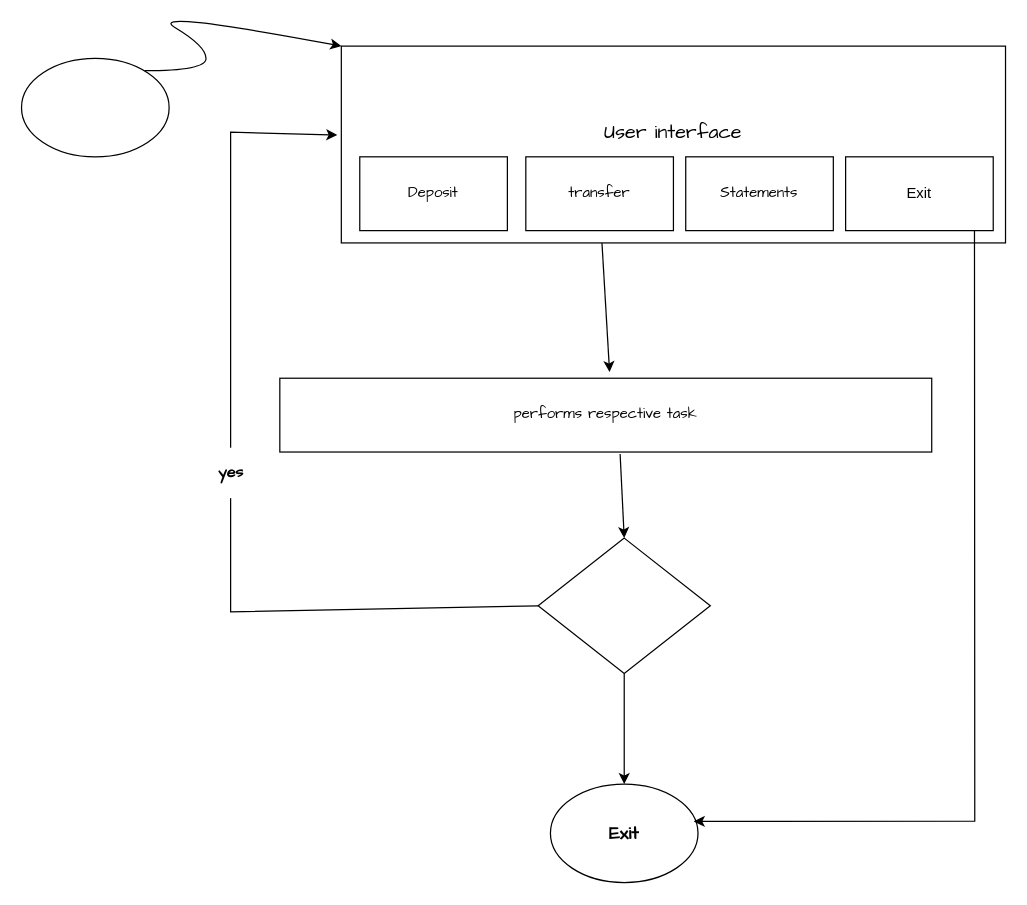
This 1027x905 diagram has some shape labels left out. The centre of each missing label's shape, as x and y in pixels:
Log In: (94,107)
perform another task ?: (623,605)
